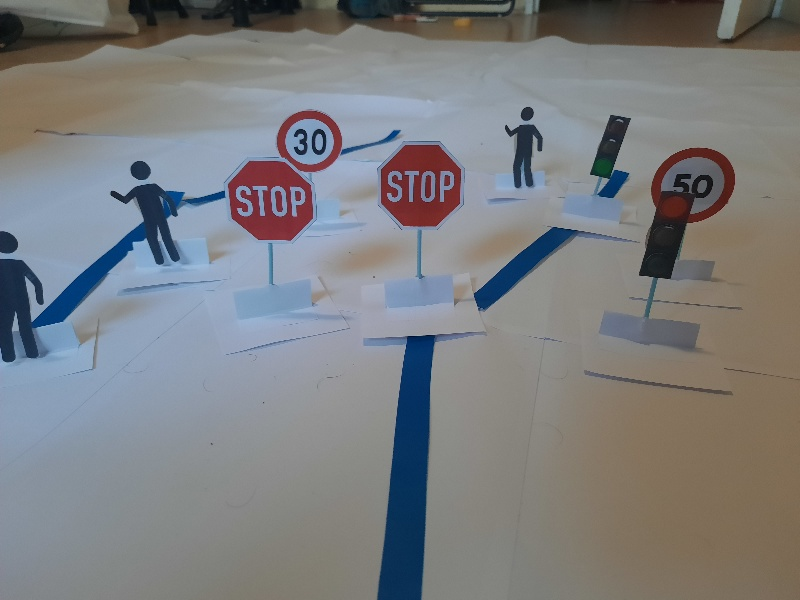Green: (587, 114, 629, 180)
Limit 30: (275, 108, 342, 174)
Limit 50: (651, 146, 733, 219)
Person: (111, 158, 184, 268), (1, 228, 44, 365), (501, 104, 547, 192)
Red: (639, 195, 692, 281)
Stop: (375, 140, 466, 228), (223, 156, 317, 241)
